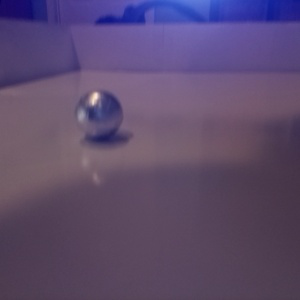alive_ball: (75, 89, 123, 140)
